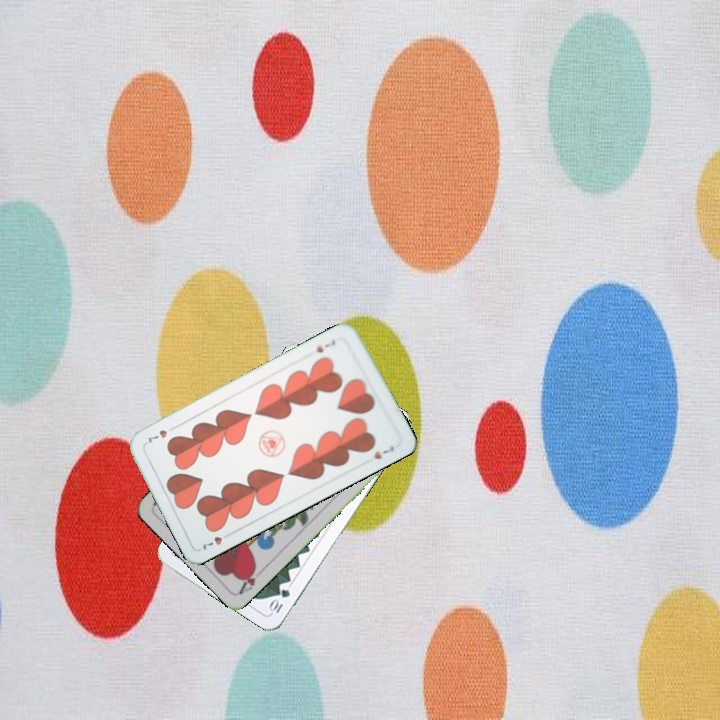G10: (266, 585, 293, 616)
H7: (197, 528, 235, 553), (312, 335, 338, 355)
HA: (235, 561, 267, 596)
